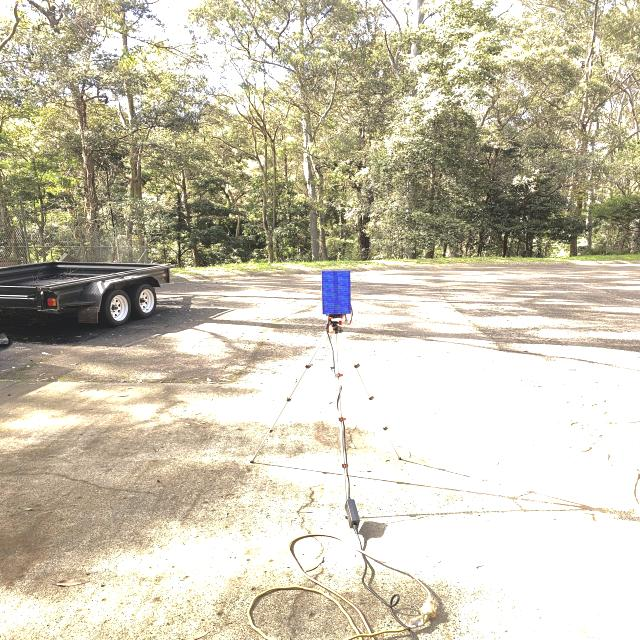matrix: (317, 267, 363, 319)
